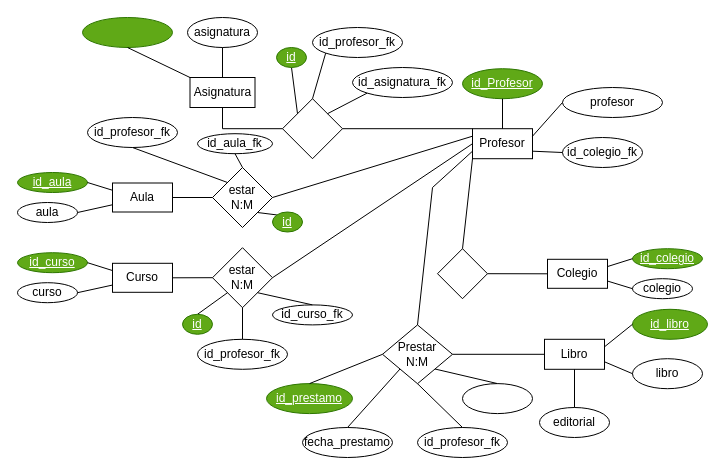
This 725x475 diagram has some shape labels left out. The centre of each missing label's shape, as x and y in pixels:
Esta N:M: point 312,128
estar N:1: point 462,273
id_asignatura: point 127,32
id_libro_fk: point 497,398
